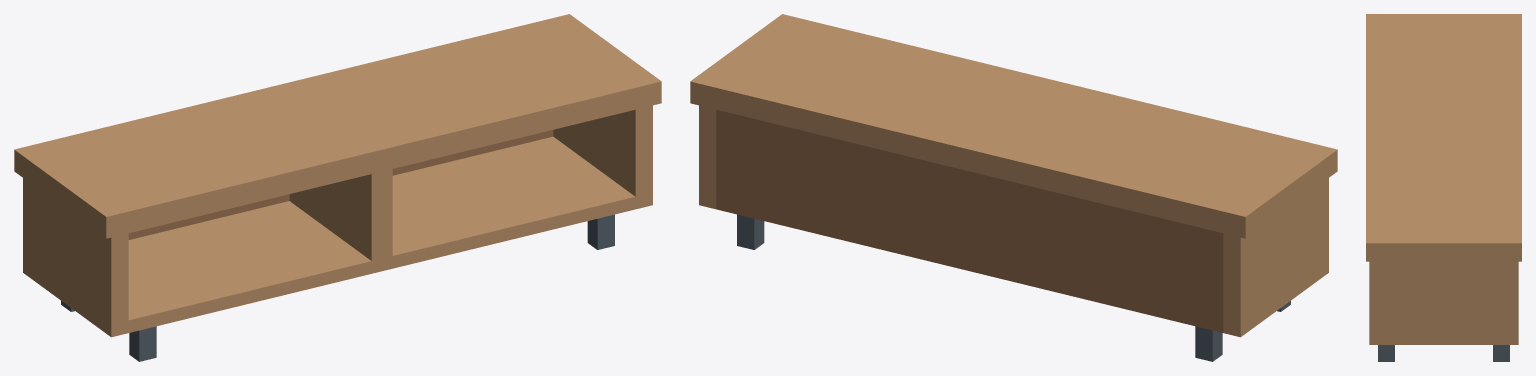
File: Media_Console_160.fbx
The picture shows the model from 3 angles, left to right: view 1: azimuth 30°, elevation 25°; view 2: azimuth 150°, elevation 25°; view 3: azimuth 270°, elevation 25°; orthographic projection. The views are drawn at different scales.
Visible parts, largest first — view 1: Media_Console_160; view 2: Media_Console_160; view 3: Media_Console_160.
Boxes of the visible parts, bbox=[...] form: Media_Console_160: bbox=[14, 14, 661, 361]; Media_Console_160: bbox=[690, 14, 1337, 361]; Media_Console_160: bbox=[1366, 14, 1521, 361].
Size of the model in its own units: 1.6 by 0.44 by 0.46.
